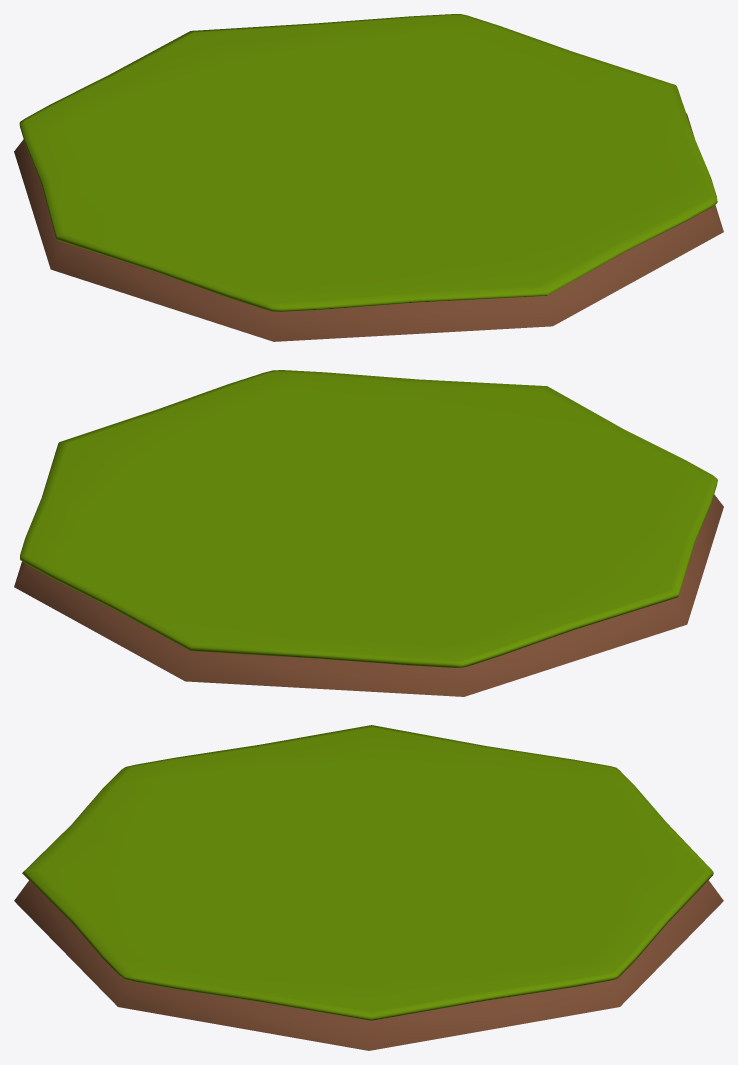
File: enviroment2.fbx
The picture shows the model from 3 angles, top to bottom: view 1: azimuth 30°, elevation 25°; view 2: azimuth 150°, elevation 25°; view 3: azimuth 270°, elevation 25°; orthographic projection. The views are drawn at different scales.
Parts seen in each view (by area): view 1: env_piece2; view 2: env_piece2; view 3: env_piece2.
Boxes of the visible parts, left/top/right/bottom form: env_piece2: left=14, top=14, right=723, bottom=341; env_piece2: left=14, top=370, right=723, bottom=696; env_piece2: left=14, top=725, right=723, bottom=1050.
Bounding box in the file's own units: 20.02 × 0.9517 × 20.02.
